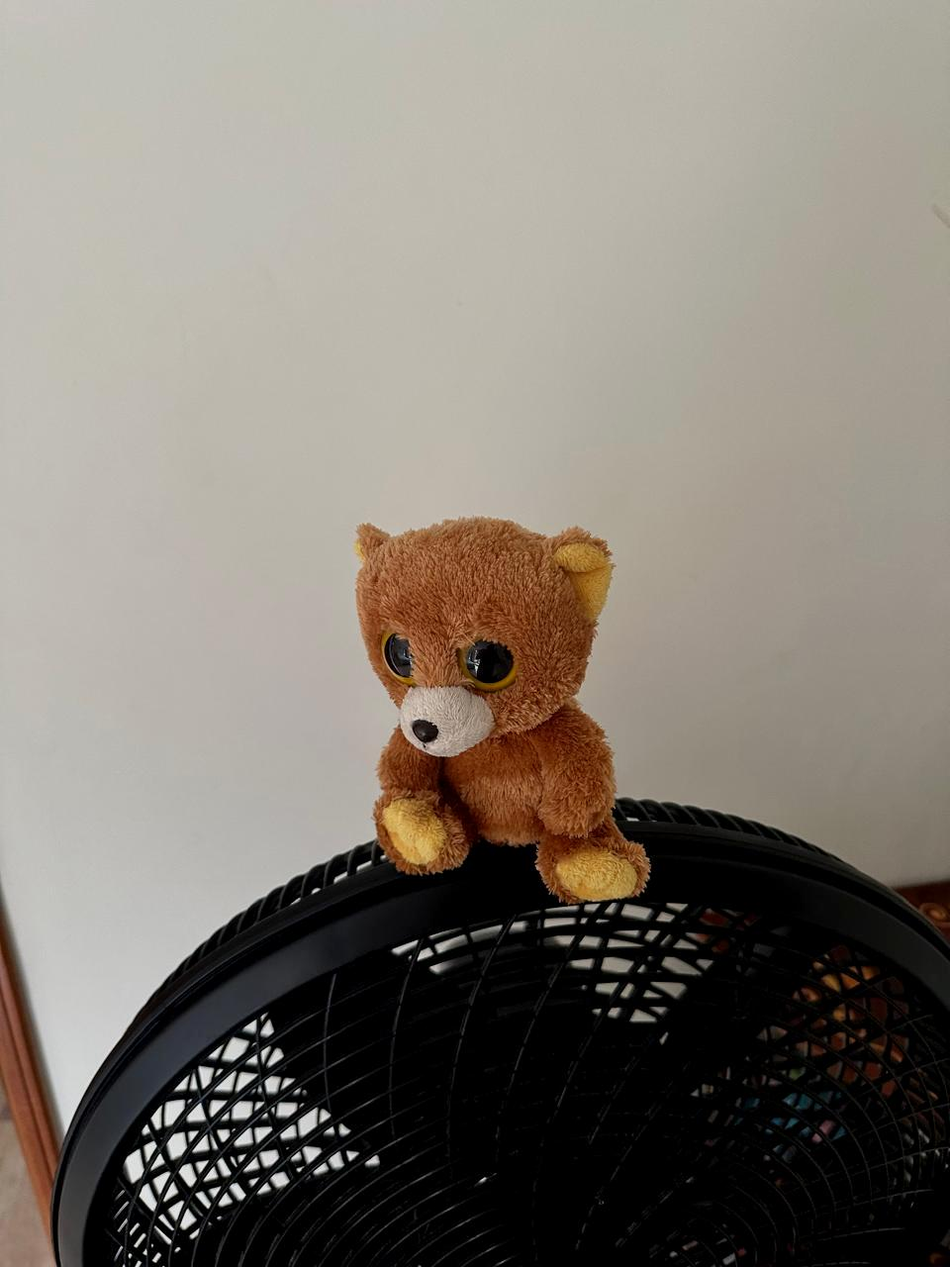peluche_sebastian: (343, 517, 668, 903)
